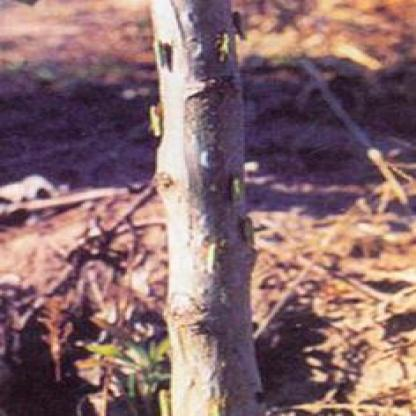Green-Leafhopper: (213, 29, 233, 63), (229, 9, 249, 41), (228, 173, 246, 208), (147, 106, 165, 140), (237, 216, 258, 245), (152, 38, 171, 70), (157, 388, 174, 416), (206, 241, 219, 277)
